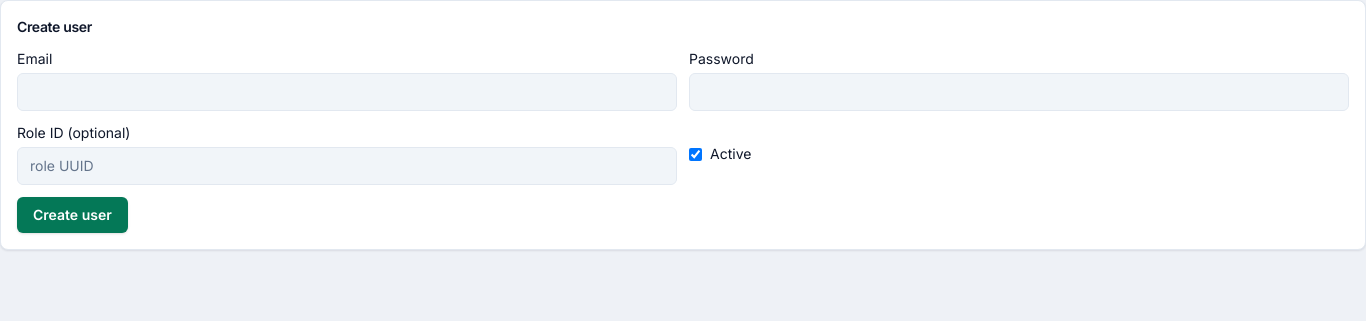
Test case: CreateUserForm › shows a real error state on network failure
Type "new.user@example.com" into the field labelled "Email" at x=347, y=92, box [17,73,677,111]
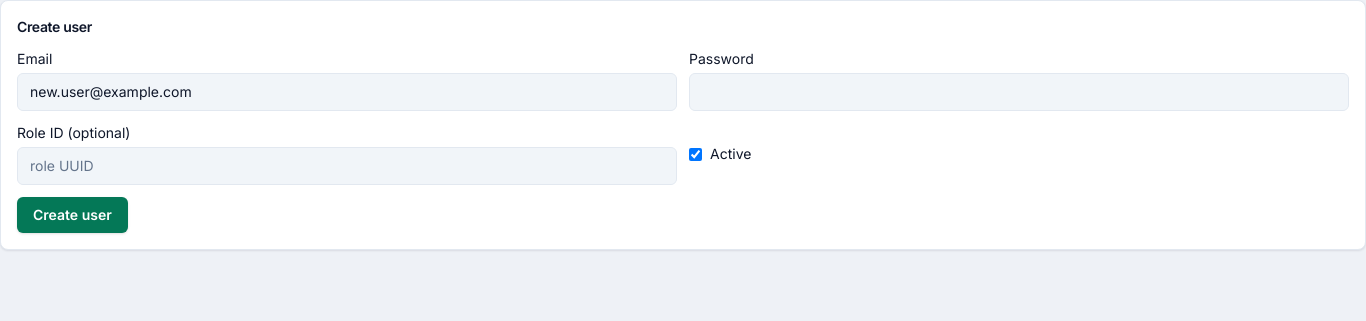
Type "supersecret" into the password field labelled "Password" at x=1019, y=92, box [689,73,1349,111]
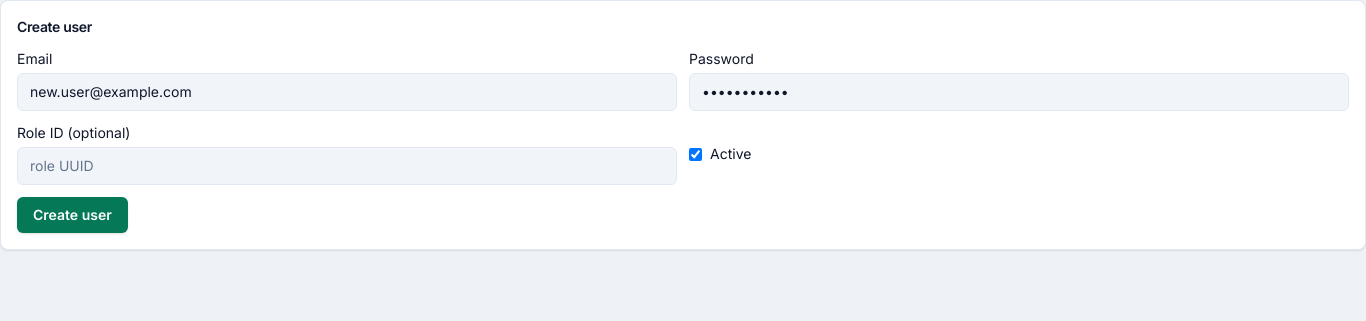
Click the button "Create user" at x=72, y=215, box [17,197,128,233]
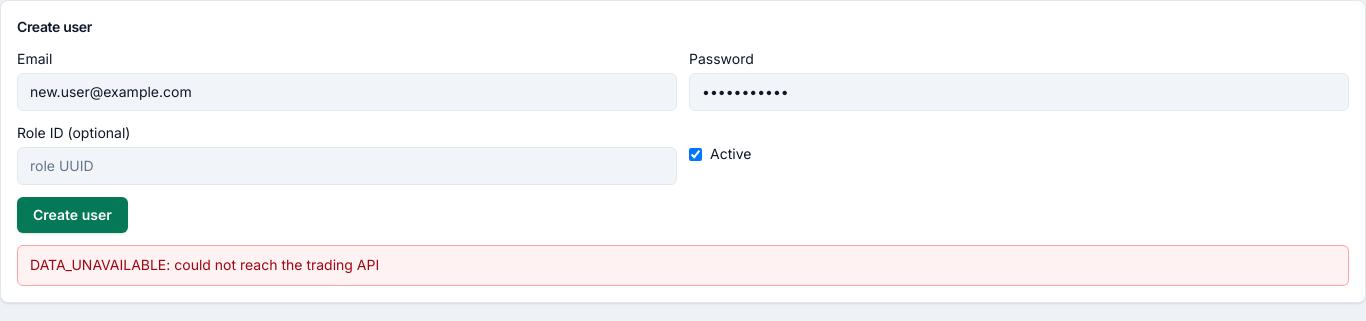
Check: the text "DATA_UNAVAILABLE: could not reach the trading API" is shown, box [17,245,1349,286]
